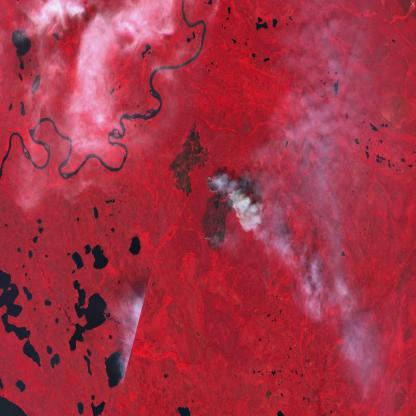fire: (198, 171, 241, 250)
